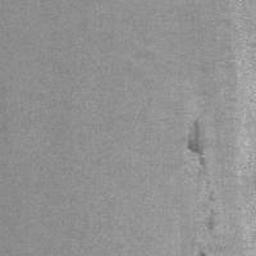Inclusion: (184, 115, 219, 233)
